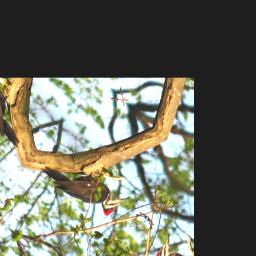Woodpecker: (37, 137, 133, 233)
